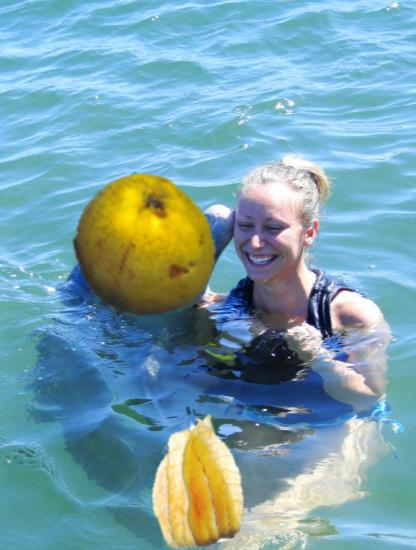Pear: (71, 171, 218, 318)
Physalis: (130, 419, 259, 548)
